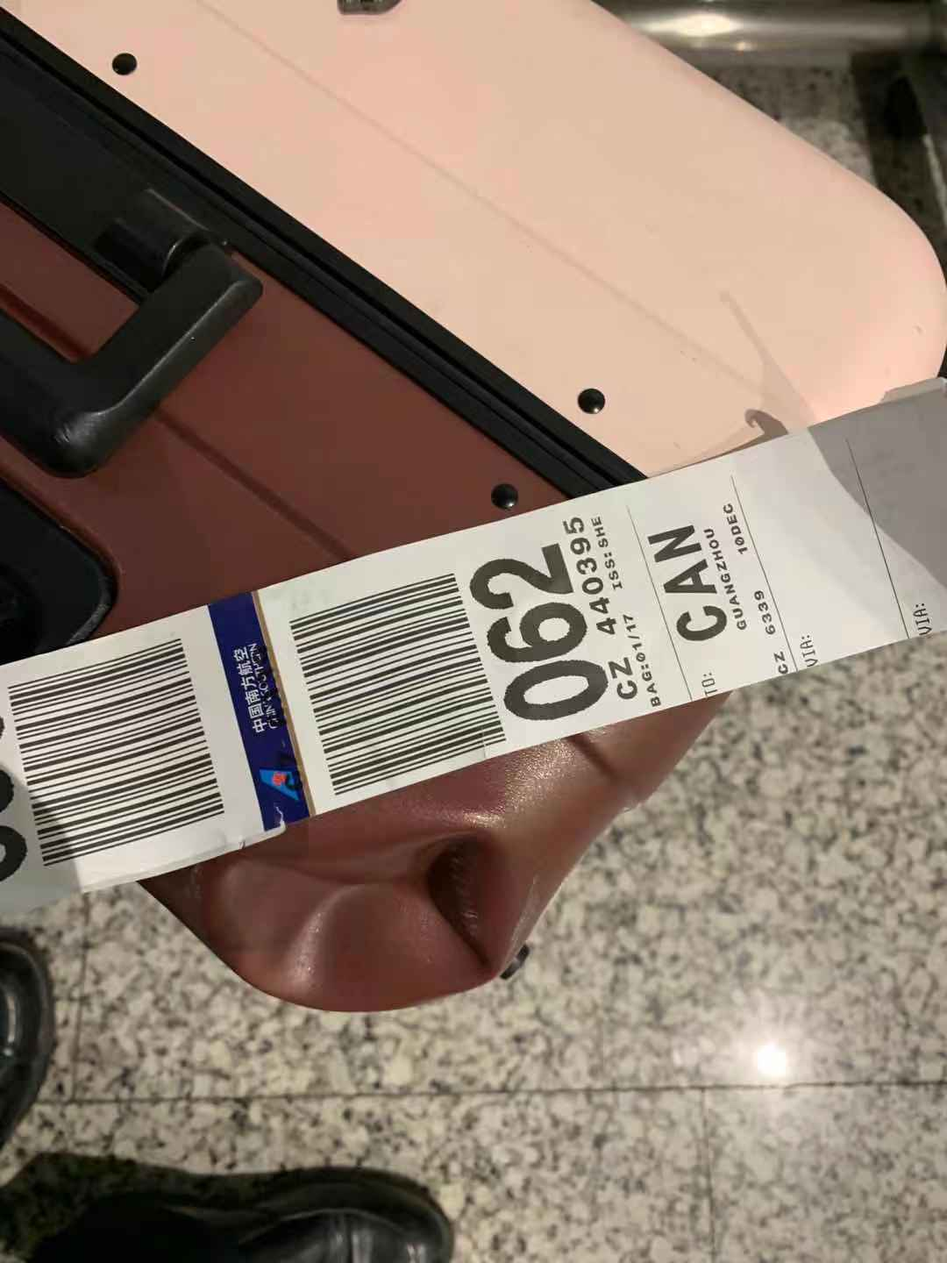rupture: (204, 827, 509, 1010)
